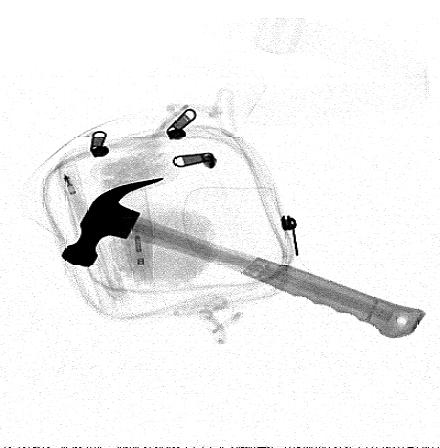Hammer: (60, 177, 426, 339)
